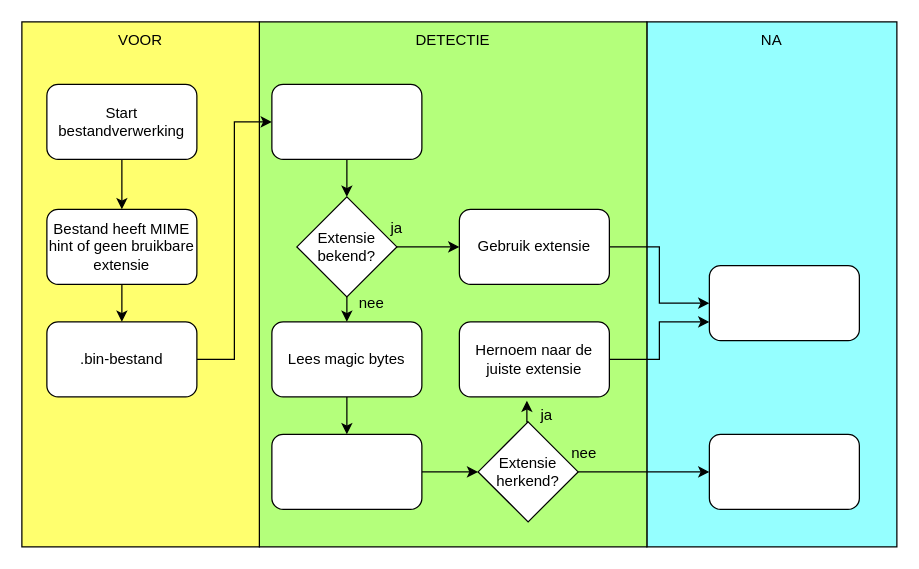
Image size: 919x569. Some labels were removed from this diagram. The centre of each missing label's shape, as x and y in pixels:
"Bestand correct beschikbaar in output" goes at point (783, 302).
"Herken bestandstype" goes at point (346, 471).
"Laat .bin staan / markeer als onbekend" goes at point (783, 471).
"Lees MIME hint" goes at point (346, 121).
